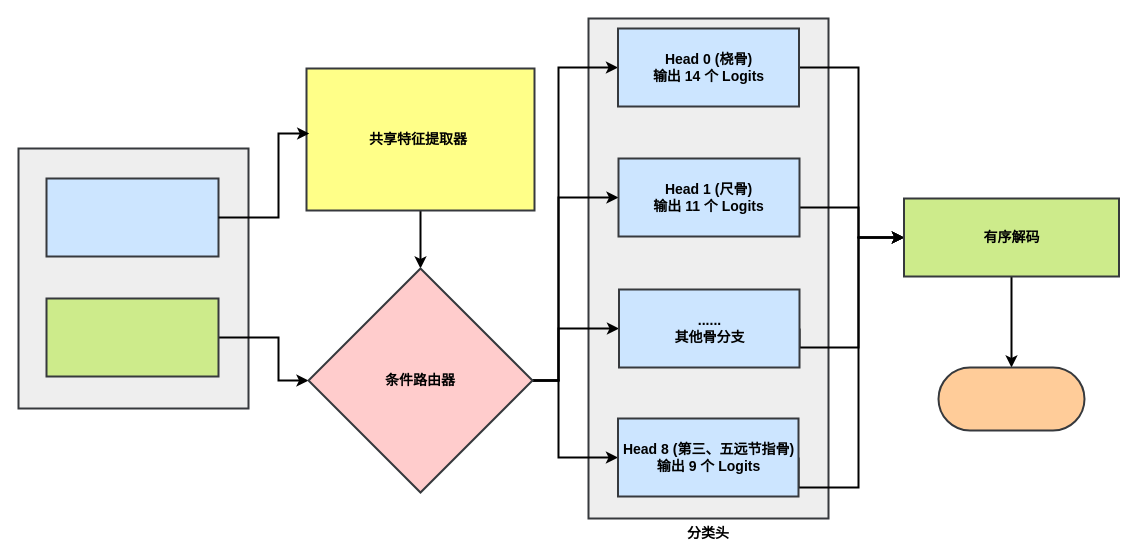
Image size: 1137x559. Some labels were removed from this diagram. The shapes that lost their labels are listed below. From the top down, each one's centre as x and y in pixels, then its label:
At point (132, 217): "单块骨裁剪图 (B, 3, H, W)".
At point (132, 337): "骨类别索引 (B, 1)".
At point (1011, 398): "最终预测等级".
